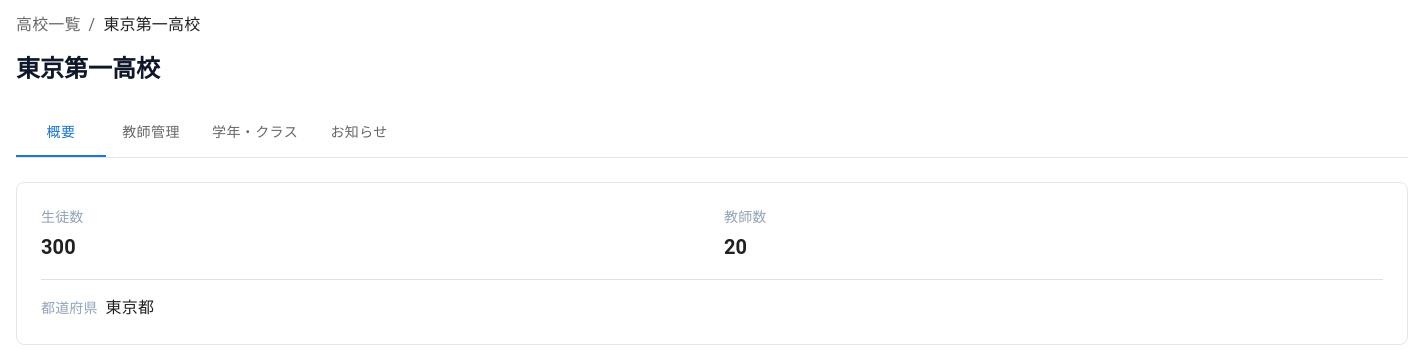
Scenario: SchoolDetailPresenter › お知らせタブ › タブ切り替え後に空状態メッセージが表示される
The image size is (1425, 362).
Click the tab "お知らせ".
click(359, 133)  # box [314,109,404,157]
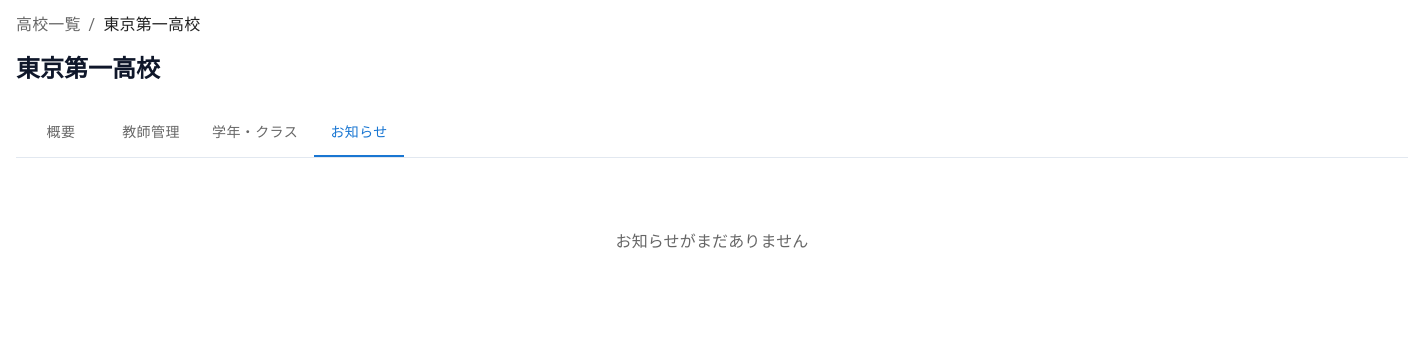
Now the text "お知らせがまだありません" is shown, box [616,232,808,251]
